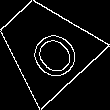O_NW: (12, 13, 79, 80)
